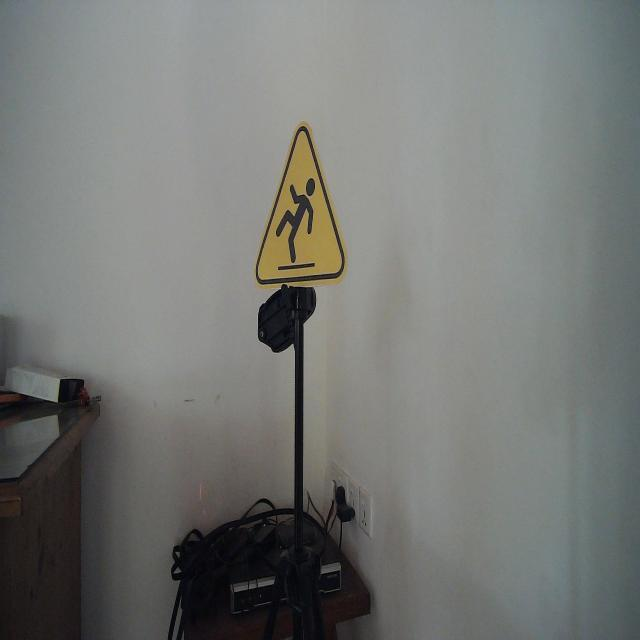slippery_sign: (252, 121, 349, 292)
